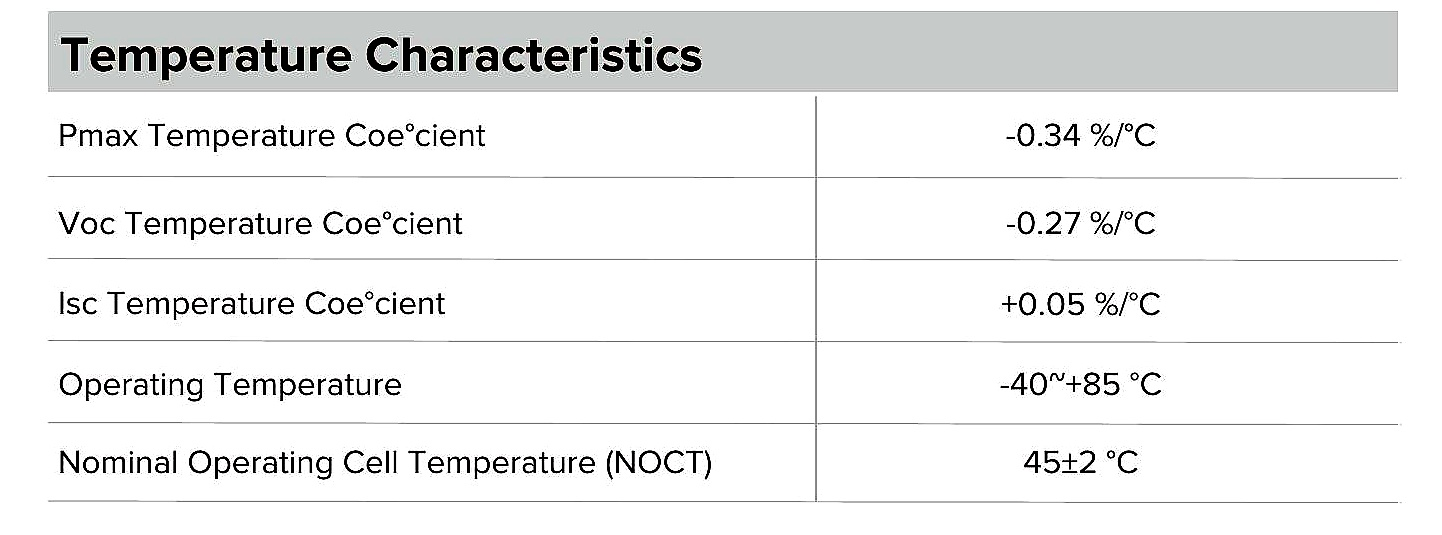table: (39, 5, 1409, 511)
table column: (50, 10, 815, 501), (819, 10, 1401, 500)
table name: (46, 10, 1396, 99)
table row: (47, 12, 1401, 93), (46, 344, 1403, 422), (47, 427, 1403, 504), (48, 100, 1401, 175), (47, 182, 1399, 257), (45, 265, 1404, 339)
table row header: (49, 11, 816, 499)
table spanning cell: (48, 14, 1398, 91)
